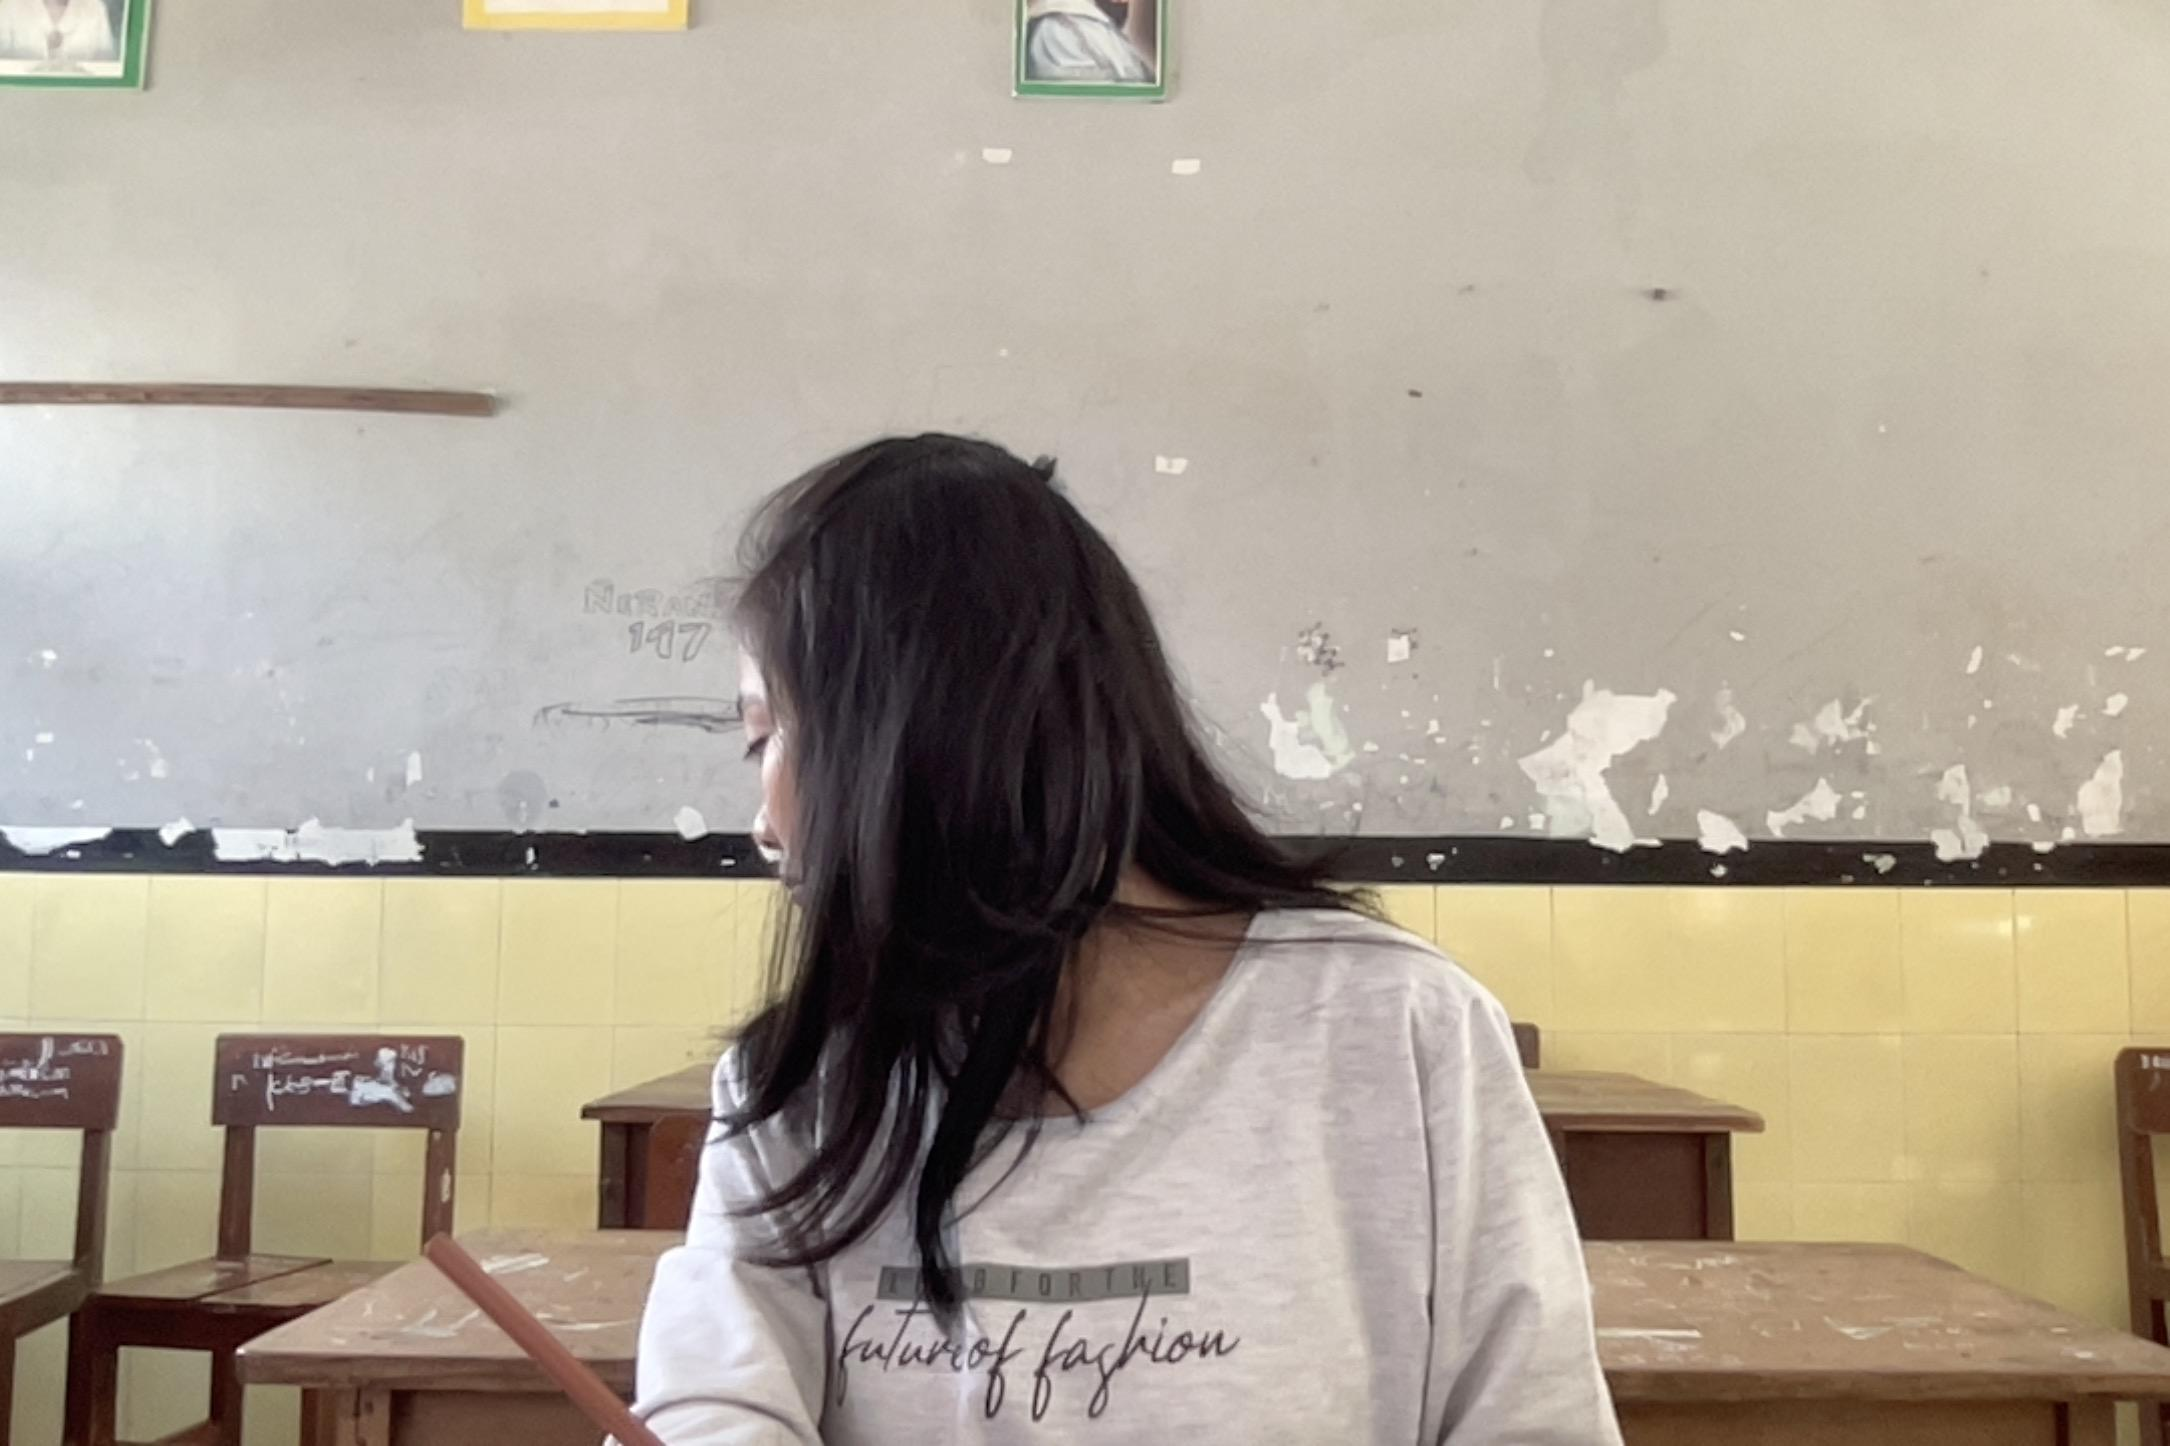cheating: (581, 344, 1694, 1446)
